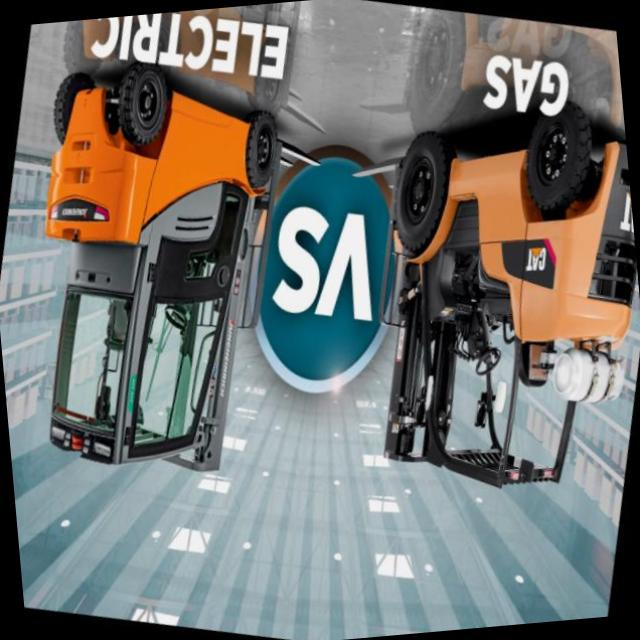forklift: (0, 48, 331, 526), (317, 62, 640, 523)
